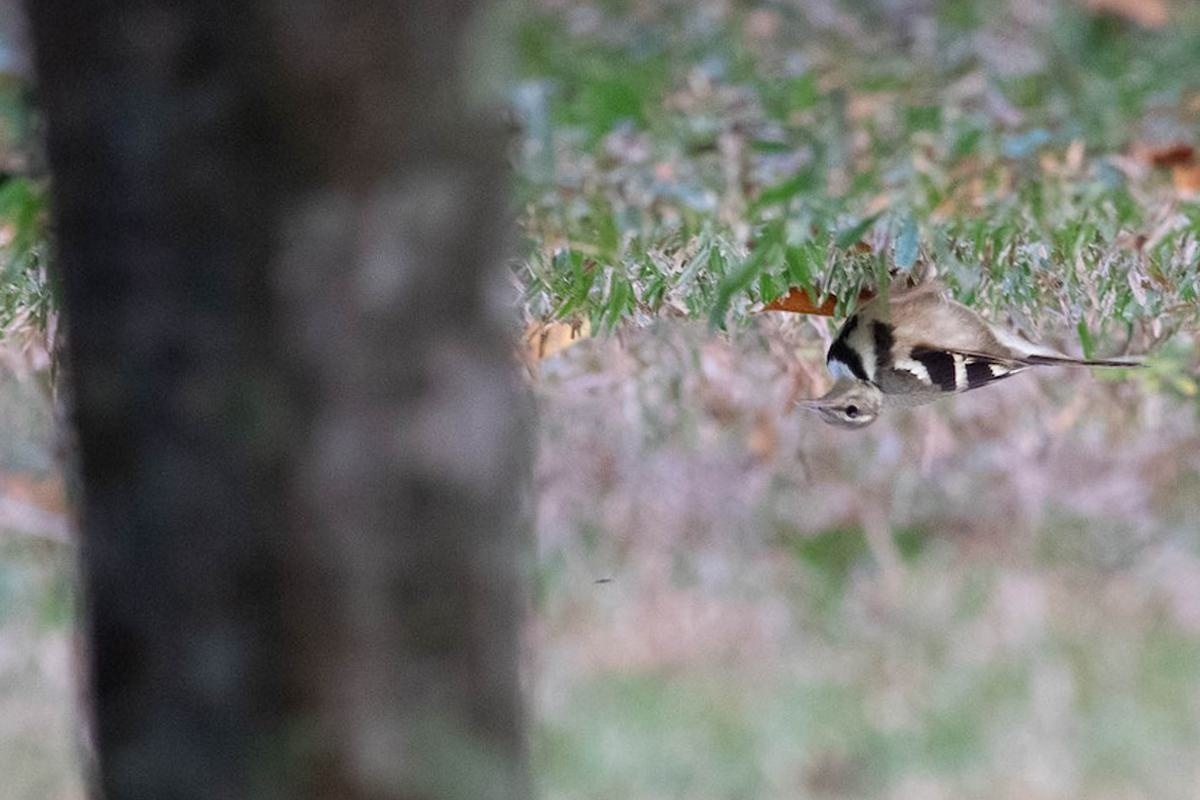wagtail: (785, 284, 1113, 434)
